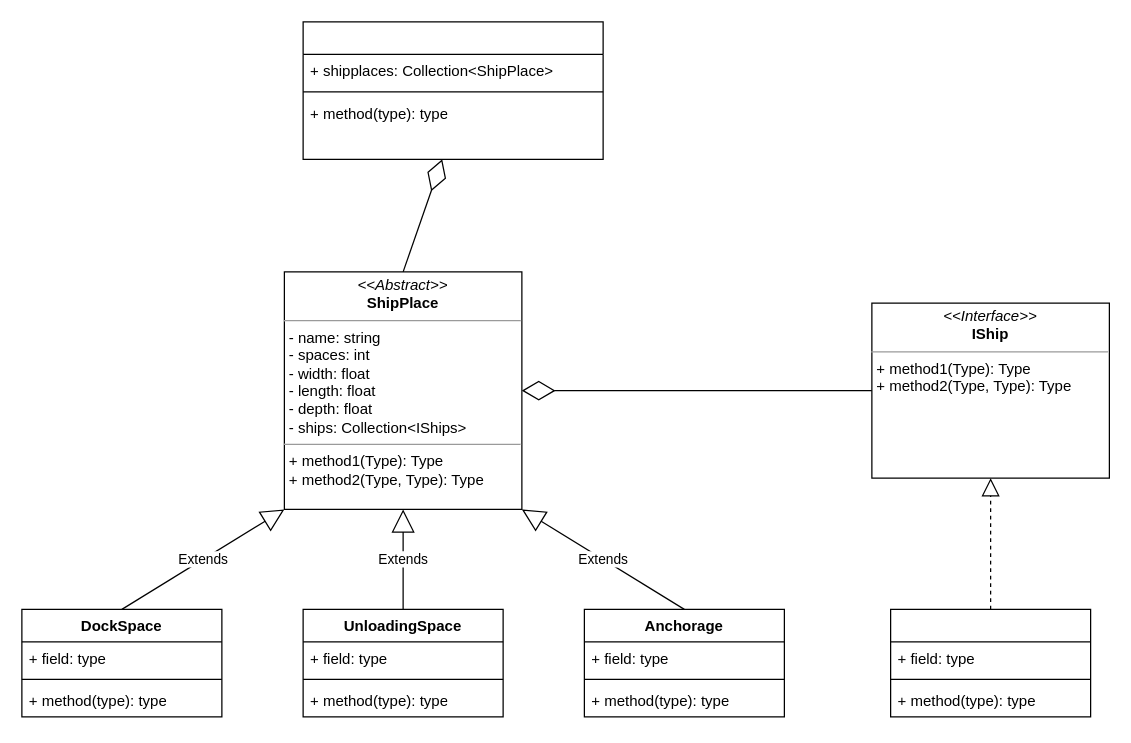
Some shapes in this 1131 by 743 pixel diagram are drawn without their labels. The shapes that lost their labels are listed below. From the top down, each one's box as (x1, y1, x2, y2) in pixels, then its label:
(302, 21, 603, 159): Havn
(889, 608, 1091, 717): Ship
